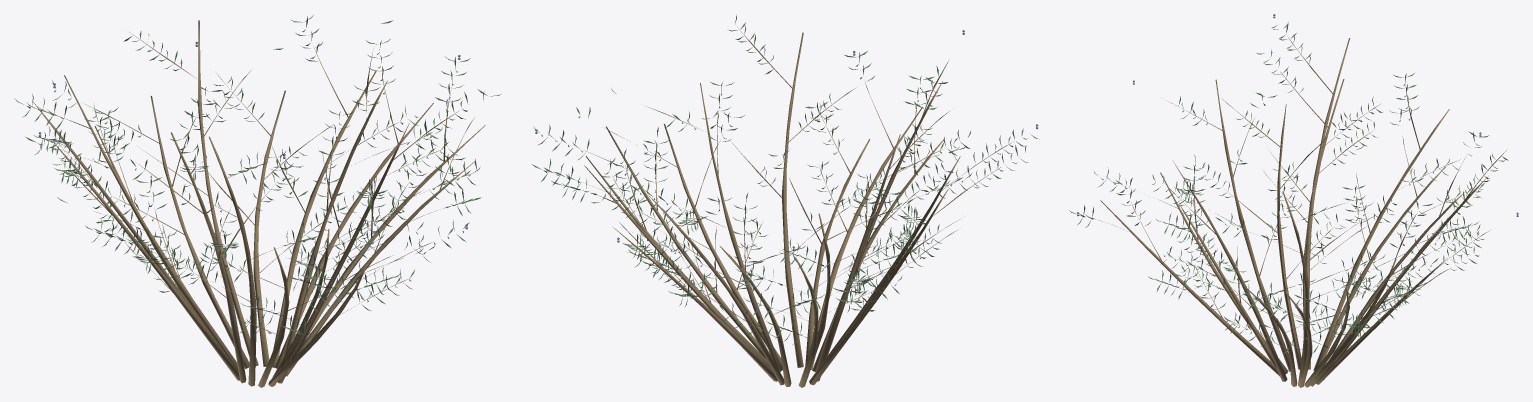
Rendered from Romarin_1_Niveau1.fbx.
The picture shows the model from 3 angles, left to right: view 1: azimuth 30°, elevation 25°; view 2: azimuth 150°, elevation 25°; view 3: azimuth 270°, elevation 25°; orthographic projection. The views are drawn at different scales.
Visible parts, largest first — view 1: Romarin_1_Niveau1; view 2: Romarin_1_Niveau1; view 3: Romarin_1_Niveau1.
Boxes of the visible parts, x1=… form: Romarin_1_Niveau1: x1=14, y1=15, x2=500, y2=387; Romarin_1_Niveau1: x1=532, y1=15, x2=1038, y2=387; Romarin_1_Niveau1: x1=1069, y1=14, x2=1518, y2=387.
Size of the model in its own units: 111 by 68.8 by 105.
